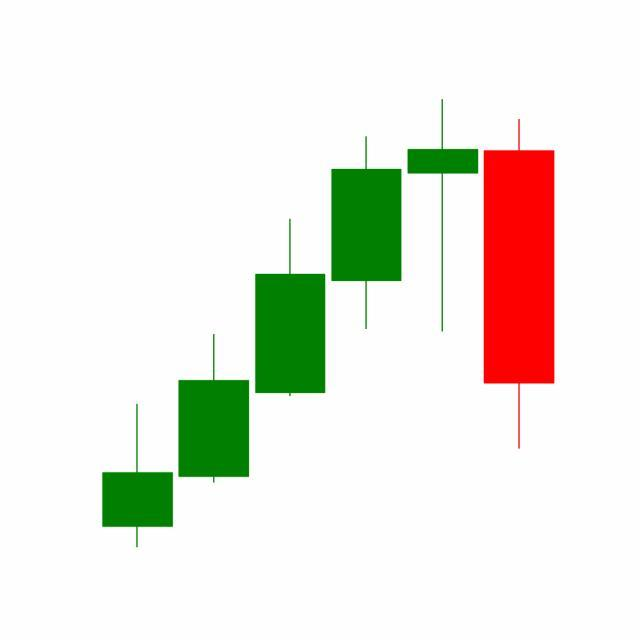Advance Block: (252, 100, 482, 402)
